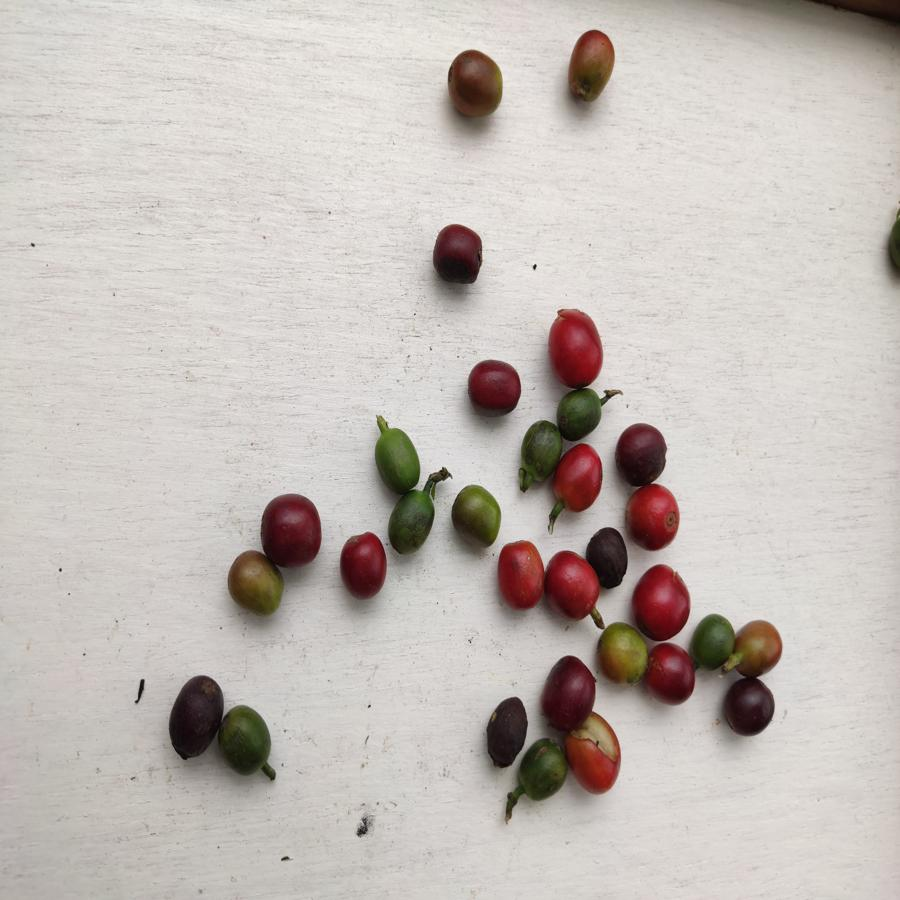Inmaduro: (220, 706, 273, 778), (374, 428, 425, 492), (519, 738, 568, 801), (390, 492, 437, 555), (554, 387, 604, 441), (522, 417, 558, 488), (694, 613, 731, 672)
Maduro: (548, 305, 605, 389), (633, 563, 692, 641), (568, 715, 623, 796), (495, 539, 545, 614), (625, 487, 682, 550), (338, 531, 389, 600), (544, 548, 589, 623), (646, 642, 694, 710), (561, 442, 606, 514)
Pinton: (261, 493, 323, 568), (168, 675, 219, 762), (445, 49, 505, 120), (565, 28, 619, 104), (225, 552, 284, 620), (539, 658, 596, 728), (429, 225, 486, 290), (468, 357, 523, 422), (597, 623, 648, 692), (450, 485, 501, 548), (724, 678, 776, 739), (616, 424, 667, 486), (586, 525, 631, 592), (485, 695, 527, 765), (736, 620, 783, 679)
